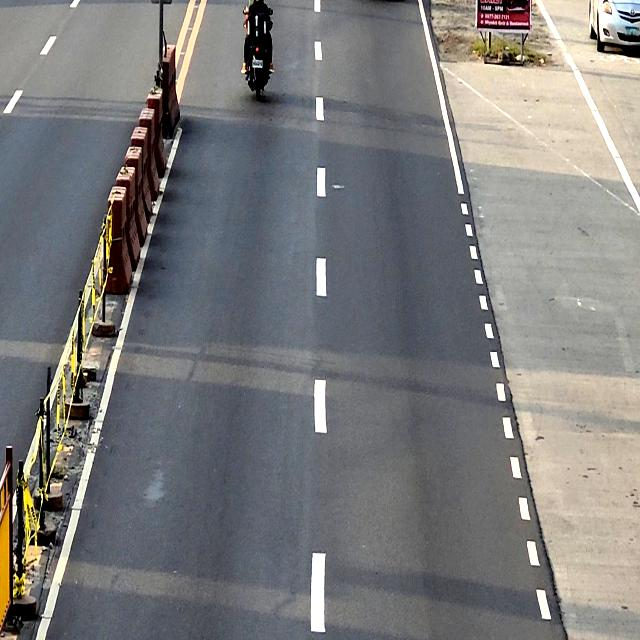License-Plate: (252, 60, 263, 68)
Motorcycle: (243, 5, 273, 101)
